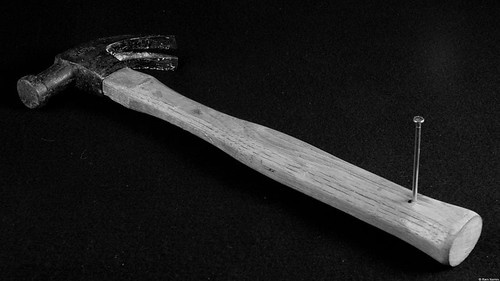hammer: (15, 35, 483, 266)
